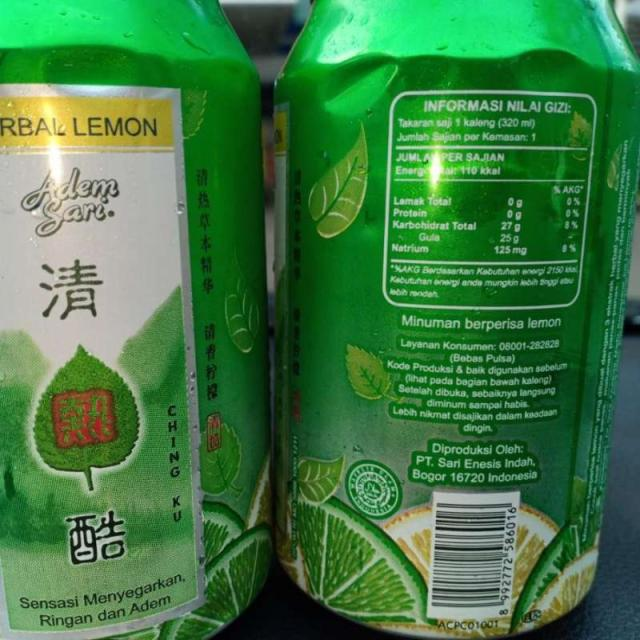ademsarikaleng: (270, 0, 638, 638), (0, 0, 271, 638)
